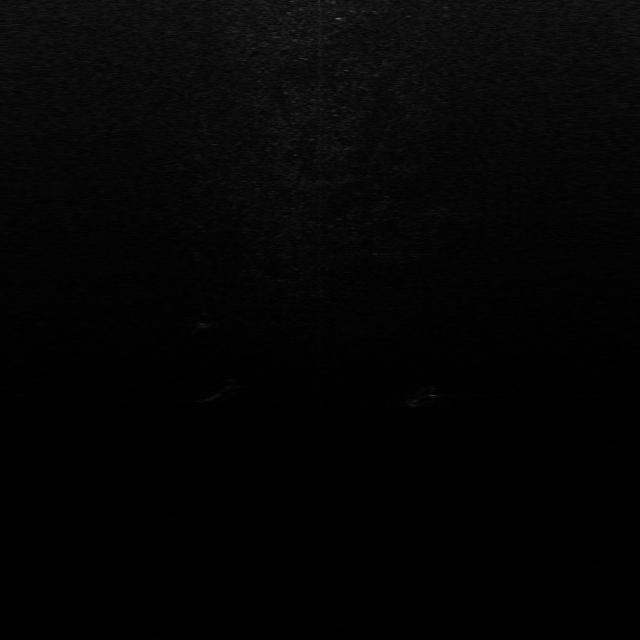ball: (218, 375, 251, 394)
circle cage: (192, 312, 218, 328)
tyre: (403, 388, 439, 407)
